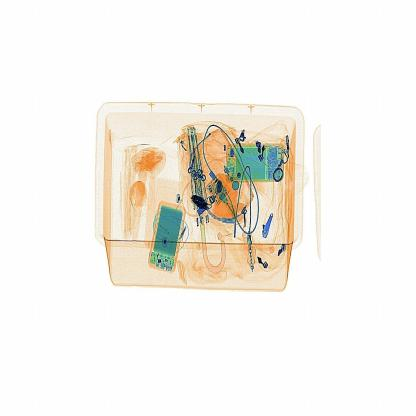scissors: (188, 188, 214, 221)
